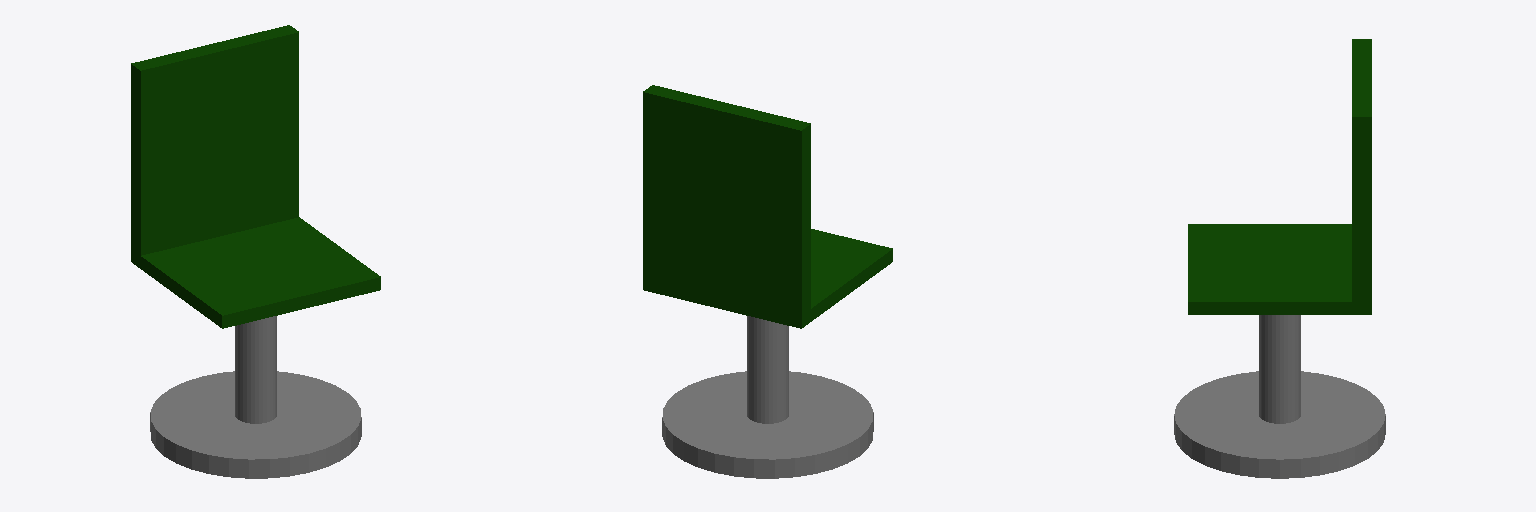
Rendered from chair.obj.
The picture shows the model from 3 angles: view 1: azimuth 30°, elevation 25°; view 2: azimuth 150°, elevation 25°; view 3: azimuth 270°, elevation 25°; orthographic projection.
Visible parts, largest first — view 1: Cube_Cube.001, Base_Cylinder, Stand_Cylinder.001; view 2: Cube_Cube.001, Base_Cylinder, Stand_Cylinder.001; view 3: Cube_Cube.001, Base_Cylinder, Stand_Cylinder.001.
Part boxes in pixels (x1,y1,x2,y2): Cube_Cube.001: (131,25,380,328); Base_Cylinder: (150,371,361,478); Stand_Cylinder.001: (235,316,276,423); Cube_Cube.001: (643,85,892,328); Base_Cylinder: (662,371,873,478); Stand_Cylinder.001: (747,316,788,423); Cube_Cube.001: (1188,39,1371,314); Base_Cylinder: (1174,371,1385,478); Stand_Cylinder.001: (1259,315,1300,423).
Bounding box in the file's own units: 2 × 3.72 × 2.